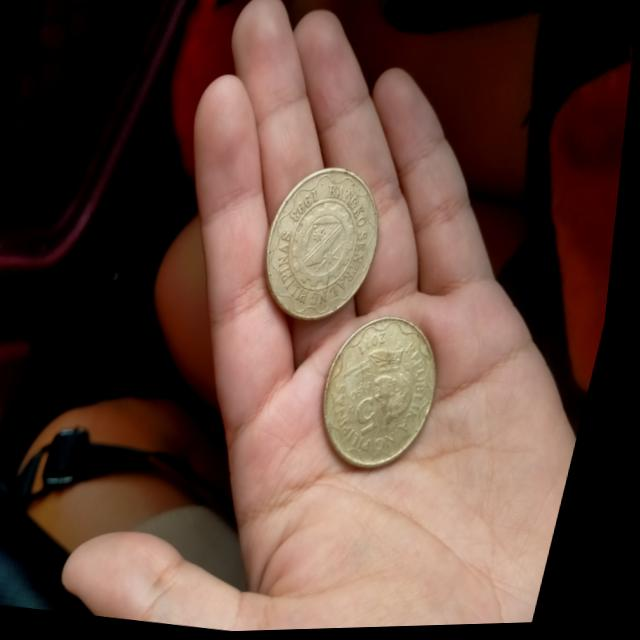5_Old_Back: (256, 160, 398, 331)
5_Old_Front: (349, 372, 401, 443)
